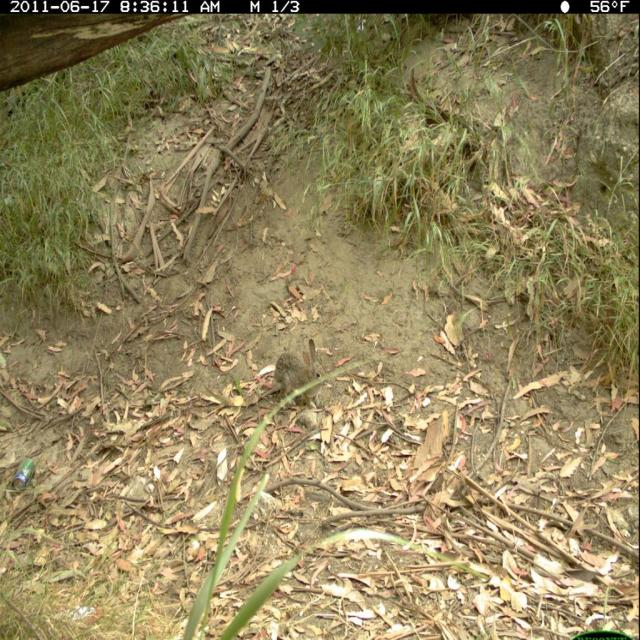rabbit: (273, 337, 331, 415)
